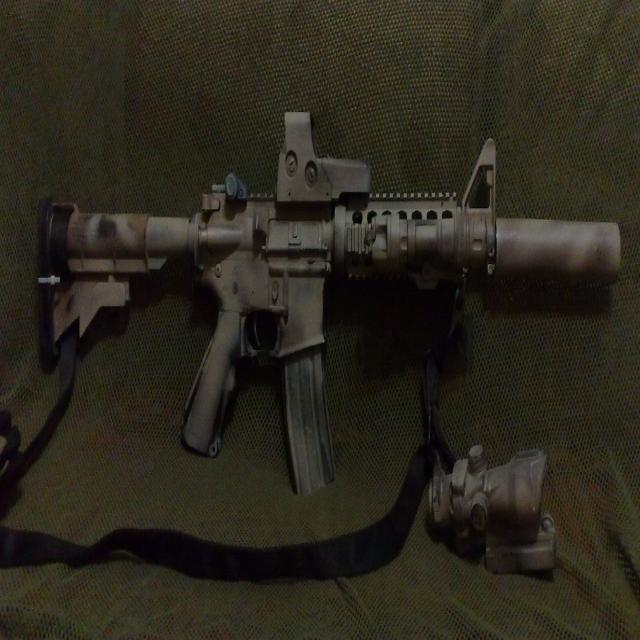firearm: (34, 108, 622, 500)
